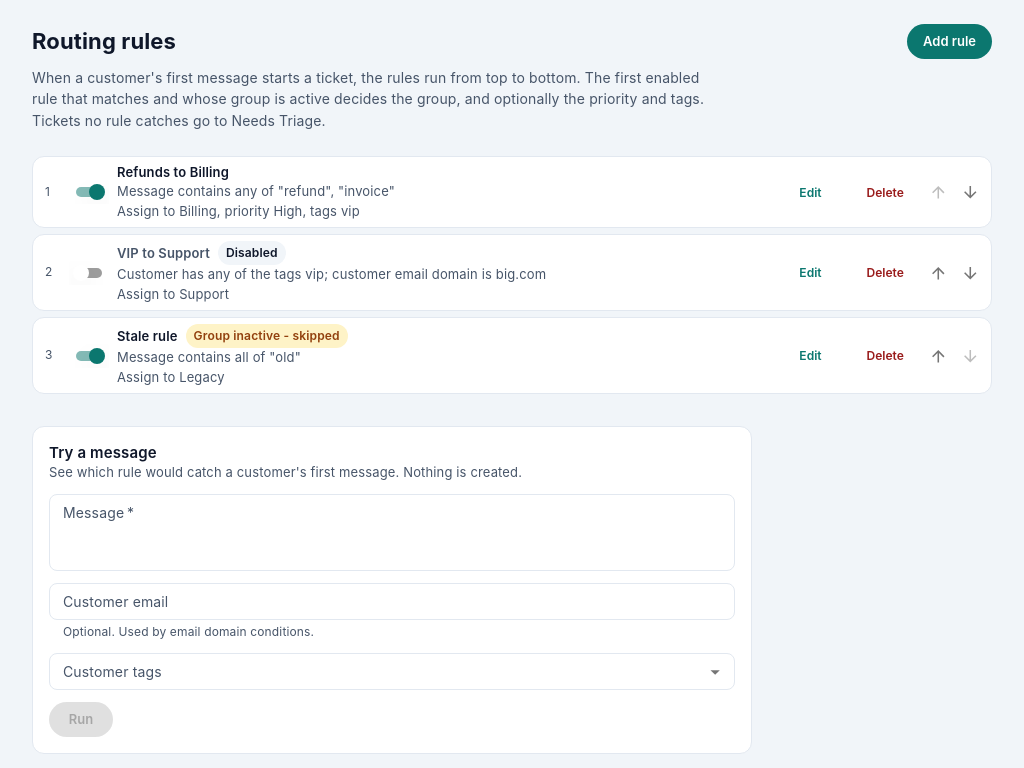
RoutingRulesView list › puts the old order back and toasts when the reorder fails
Click the button named "Move Refunds to Billing down". click: coordinates (971, 192)
box: [956,178,985,206]
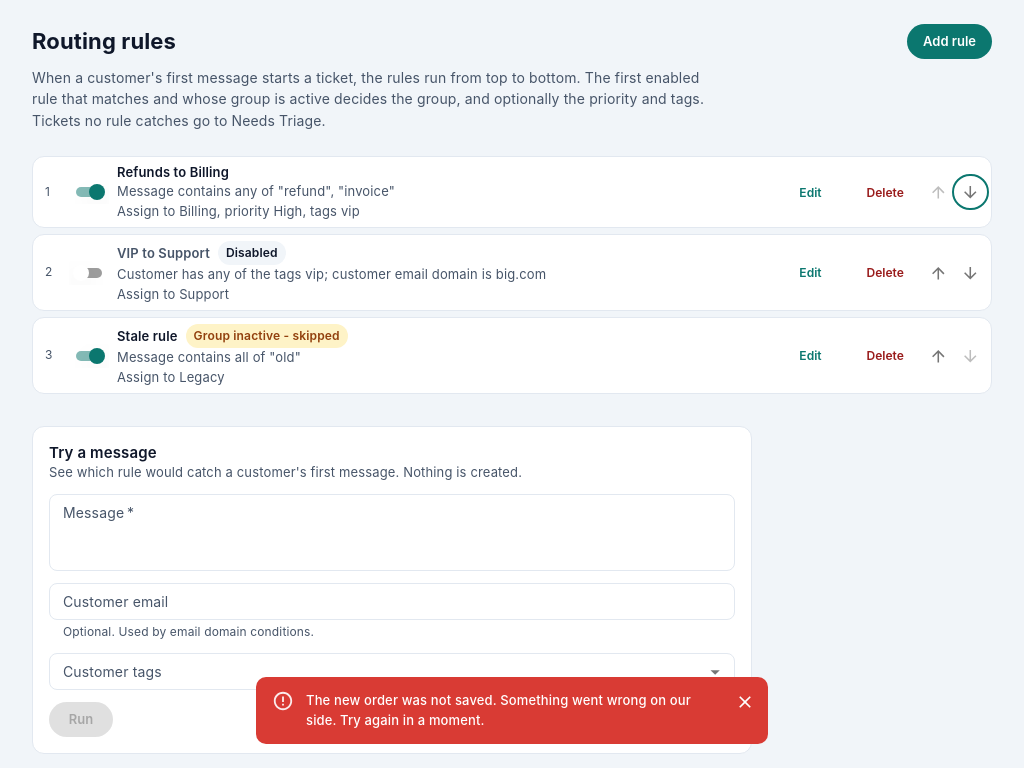
Expected: the text "The new order was not saved." is shown, [306,692,691,728]
